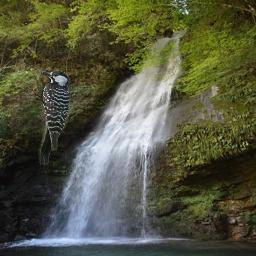Woodpecker: (38, 68, 72, 165)
